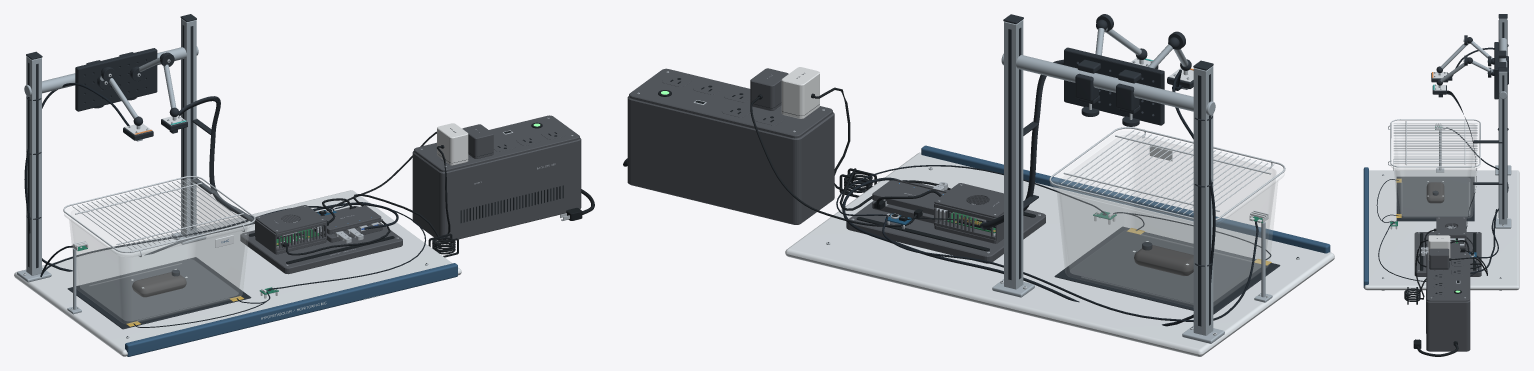
Rendered from instrument.glb.
The picture shows the model from 3 angles, left to right: view 1: azimuth 30°, elevation 25°; view 2: azimuth 150°, elevation 25°; view 3: azimuth 270°, elevation 25°; orthographic projection. The views are drawn at different scales.
Visible parts, largest first — view 1: Cage | Polycarbonate 2.5 mm, Machined base plate, EL_APC_BE600M1_UPS_case, Support | Bead-blasted anodized aluminium, Optional piezo | Textured graphite polymer, Front fascia, Camera mounts | Textured graphite polymer, Grid lid | Brushed stainless steel, EL_Carrier_case, Support | Textured graphite polymer, Signal routing | Rubber cable jacket, EL_Power_Cables_rubber (+9 smaller); view 2: Machined base plate, Cage | Polycarbonate 2.5 mm, EL_APC_BE600M1_UPS_case, Support | Bead-blasted anodized aluminium, Optional piezo | Textured graphite polymer, Camera mounts | Textured graphite polymer, Grid lid | Brushed stainless steel, Support | Textured graphite polymer, Front fascia, Signal routing | Rubber cable jacket, EL_Carrier_case, EL_Power_Cables_rubber (+9 smaller); view 3: Machined base plate, Cage | Polycarbonate 2.5 mm, EL_APC_BE600M1_UPS_case, Grid lid | Brushed stainless steel, Optional piezo | Textured graphite polymer, Support | Bead-blasted anodized aluminium, Support | Textured graphite polymer, EL_Carrier_case, Camera mounts | Textured graphite polymer, Front fascia, Signal routing | Rubber cable jacket, EL_Power_Cables_rubber (+10 smaller).
Part boxes in pixels (bbox=[...]): Cage | Polycarbonate 2.5 mm: bbox=[64, 179, 254, 323]; Machined base plate: bbox=[14, 190, 461, 356]; EL_APC_BE600M1_UPS_case: bbox=[412, 115, 581, 240]; Support | Bead-blasted anodized aluminium: bbox=[17, 18, 206, 282]; Optional piezo | Textured graphite polymer: bbox=[67, 257, 271, 329]; Front fascia: bbox=[125, 263, 457, 356]; Camera mounts | Textured graphite polymer: bbox=[75, 48, 179, 125]; Grid lid | Brushed stainless steel: bbox=[63, 176, 255, 257]; EL_Carrier_case: bbox=[240, 206, 402, 274]; Support | Textured graphite polymer: bbox=[26, 14, 215, 268]; Signal routing | Rubber cable jacket: bbox=[24, 83, 425, 289]; EL_Power_Cables_rubber: bbox=[286, 131, 458, 257]; Machined base plate: bbox=[785, 152, 1334, 356]; Cage | Polycarbonate 2.5 mm: bbox=[1050, 131, 1284, 306]; EL_APC_BE600M1_UPS_case: bbox=[627, 68, 834, 224]; Support | Bead-blasted anodized aluminium: bbox=[992, 20, 1224, 343]; Optional piezo | Textured graphite polymer: bbox=[1054, 213, 1280, 314]; Camera mounts | Textured graphite polymer: bbox=[1064, 14, 1191, 126]; Grid lid | Brushed stainless steel: bbox=[1049, 127, 1285, 220]; Support | Textured graphite polymer: bbox=[1003, 14, 1213, 326]; Front fascia: bbox=[921, 145, 1330, 253]; Signal routing | Rubber cable jacket: bbox=[836, 69, 1258, 326]; EL_Carrier_case: bbox=[846, 180, 1045, 263]; EL_Power_Cables_rubber: bbox=[750, 87, 950, 226]; Machined base plate: bbox=[1364, 170, 1519, 290]; Cage | Polycarbonate 2.5 mm: bbox=[1391, 121, 1480, 218]; EL_APC_BE600M1_UPS_case: bbox=[1426, 252, 1470, 351]; Grid lid | Brushed stainless steel: bbox=[1388, 119, 1480, 167]; Optional piezo | Textured graphite polymer: bbox=[1394, 176, 1474, 223]; Support | Bead-blasted anodized aluminium: bbox=[1495, 18, 1511, 228]; Support | Textured graphite polymer: bbox=[1473, 14, 1507, 219]; EL_Carrier_case: bbox=[1414, 232, 1481, 276]; Camera mounts | Textured graphite polymer: bbox=[1436, 35, 1508, 99]; Front fascia: bbox=[1363, 167, 1368, 288]; Signal routing | Rubber cable jacket: bbox=[1378, 47, 1508, 281]; EL_Power_Cables_rubber: bbox=[1404, 229, 1487, 304].
Bounding box in the file's own units: 1.02 × 0.438 × 0.372.
